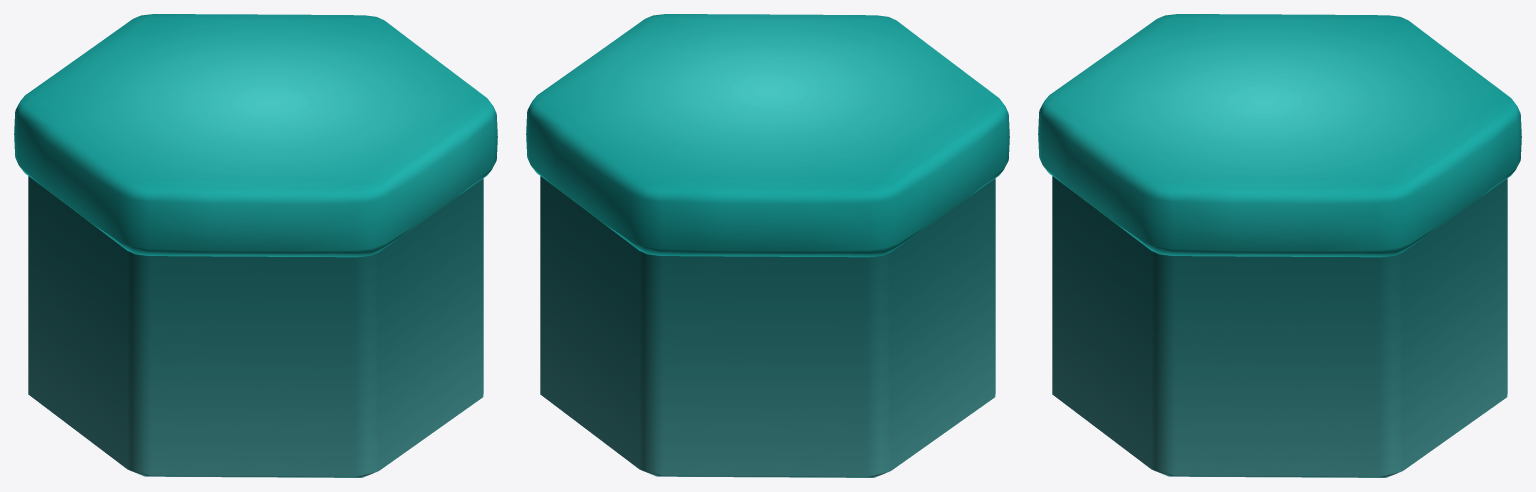
File: TILE_Support_Infected.fbx
3 renders of one model, left to right at view 1: azimuth 30°, elevation 25°; view 2: azimuth 150°, elevation 25°; view 3: azimuth 270°, elevation 25°, orthographic.
Visible parts, largest first — view 1: Cylinder.067, Cylinder.072; view 2: Cylinder.067, Cylinder.072; view 3: Cylinder.067, Cylinder.072.
Boxes of the visible parts, box(x1,y1,x2,y2) form: Cylinder.067: box(28, 176, 483, 477); Cylinder.072: box(14, 14, 497, 257); Cylinder.067: box(540, 176, 995, 477); Cylinder.072: box(526, 14, 1009, 257); Cylinder.067: box(1052, 176, 1507, 477); Cylinder.072: box(1038, 14, 1521, 257).
Bounding box in the file's own units: 1144 × 857 × 1257.
